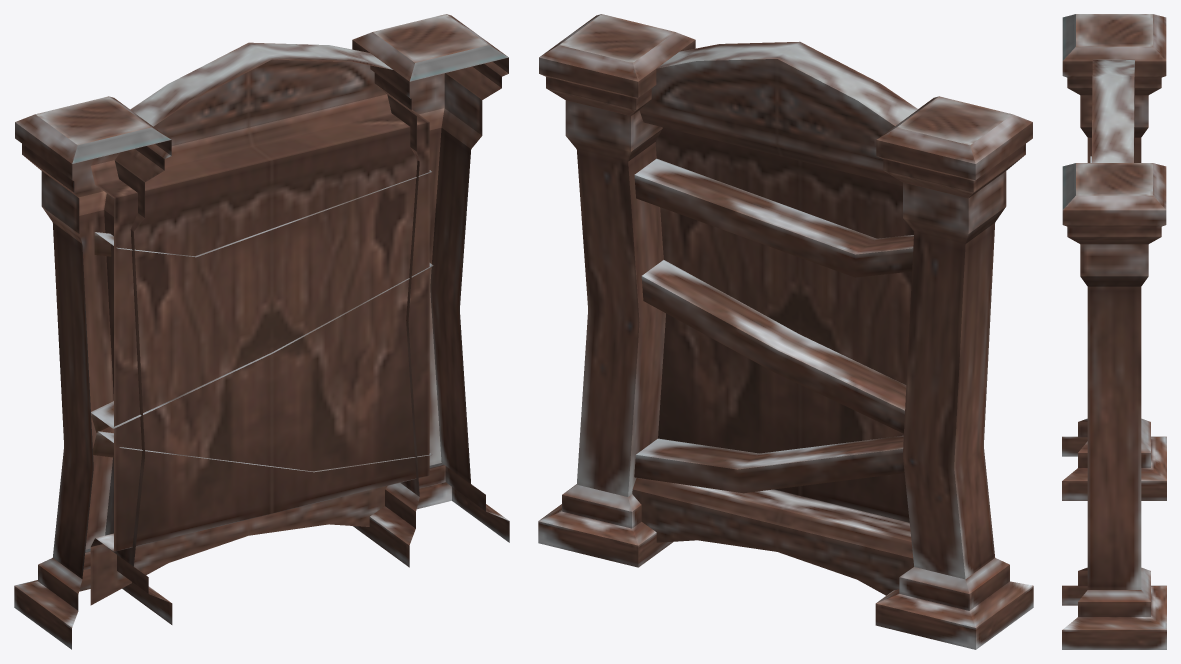
File: prop_list_22.FBX
3 views of the same model, side by side, from view 1: azimuth 30°, elevation 25°; view 2: azimuth 150°, elevation 25°; view 3: azimuth 270°, elevation 25° (orthographic). The views are drawn at different scales.
Visible parts, largest first — view 1: prop_list_22; view 2: prop_list_22; view 3: prop_list_22.
Boxes of the visible parts, bbox=[...] form: prop_list_22: bbox=[14, 14, 509, 649]; prop_list_22: bbox=[538, 14, 1033, 649]; prop_list_22: bbox=[1062, 14, 1166, 649].
Size of the model in its own units: 70.77 by 81.14 by 16.22.
